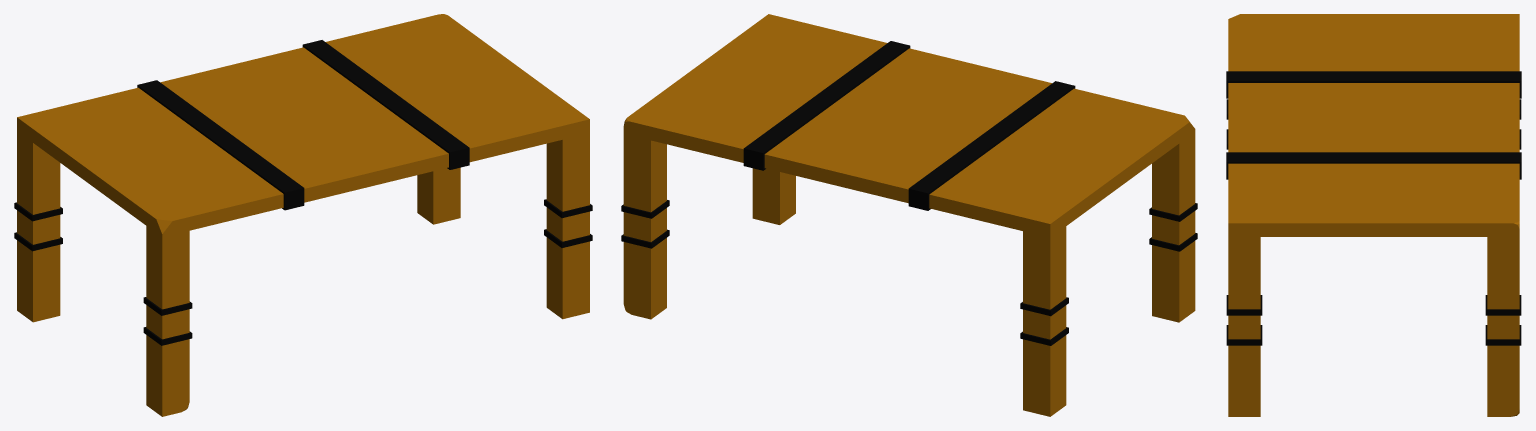
The model's file is Table_01.fbx.
3 views of the same model, side by side, from view 1: azimuth 30°, elevation 25°; view 2: azimuth 150°, elevation 25°; view 3: azimuth 270°, elevation 25° (orthographic).
Visible parts, largest first — view 1: Table_01; view 2: Table_01; view 3: Table_01.
Part boxes in pixels (x1,y1,x2,y2): Table_01: [14, 14, 592, 416]; Table_01: [621, 14, 1197, 416]; Table_01: [1226, 14, 1521, 416].
Size of the model in its own units: 202 by 87.28 by 119.
